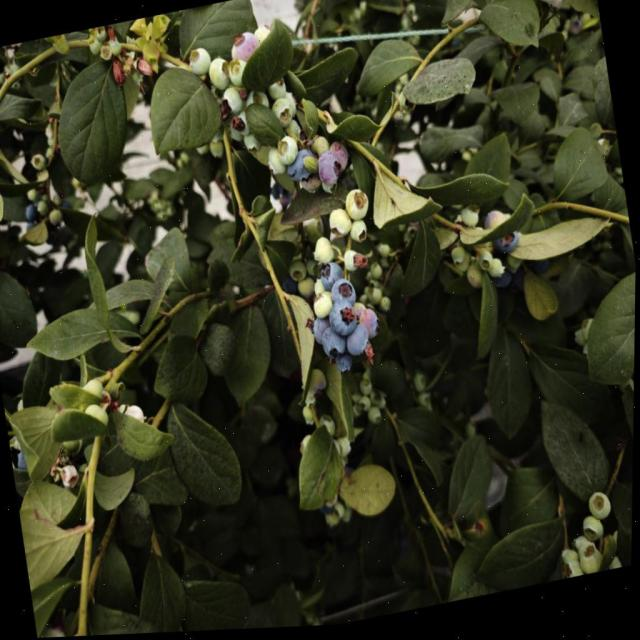RipeBlueBerry: (326, 300, 362, 342), (320, 327, 349, 367), (345, 327, 374, 362), (319, 262, 346, 294)
Semi-RipeBlueBerry: (316, 151, 344, 190)
UnripeBlueBerry: (342, 188, 372, 226), (327, 208, 354, 245)
